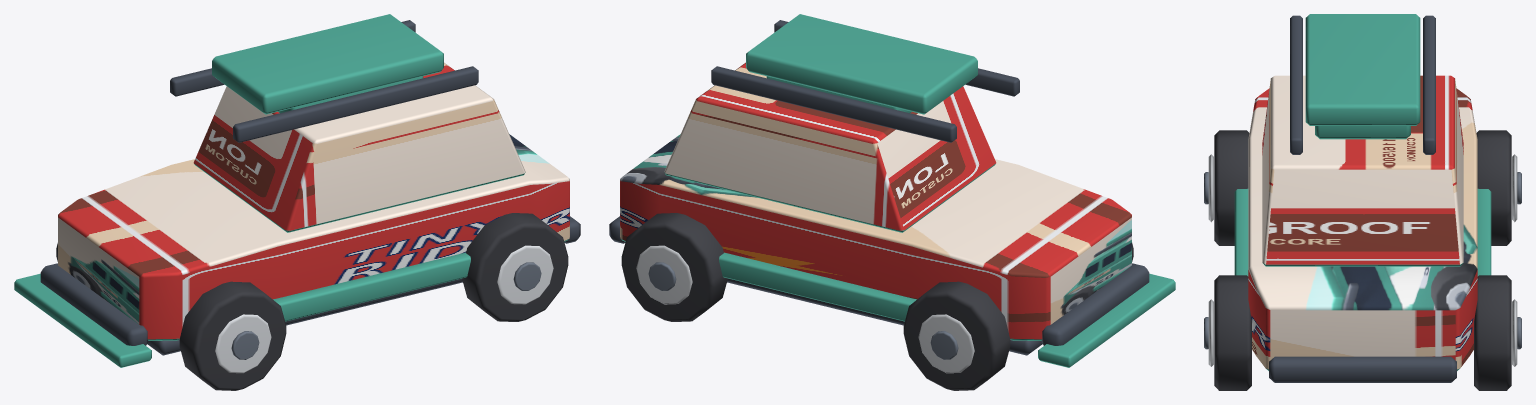
3 views of the same model, side by side, from view 1: azimuth 30°, elevation 25°; view 2: azimuth 150°, elevation 25°; view 3: azimuth 270°, elevation 25° (orthographic). The views are drawn at different scales.
Parts seen in each view (by area): view 1: RR-02_connected_shell, RR-02_cabin, utility load, Tire, Tire.002, utility rail, custom side guard, custom chin, front bumper, Rim, Rim.002, underbody (+3 smaller); view 2: RR-02_connected_shell, RR-02_cabin, utility load, Tire.001, Tire.003, utility rail.001, custom side guard.001, custom chin, front bumper, Rim.001, Rim.003, underbody (+3 smaller); view 3: RR-02_cabin, RR-02_connected_shell, utility load, rear bumper, Tire.002, Tire.003, Tire, Tire.001, utility rail, utility rail.001, custom equipment, custom side guard (+5 smaller).
Part boxes in pixels (x1,y1,x2,y2): RR-02_connected_shell: [58, 134, 569, 340]; RR-02_cabin: [193, 62, 525, 232]; utility load: [212, 14, 443, 114]; Tire: [179, 281, 286, 390]; Tire.002: [462, 213, 568, 321]; utility rail: [233, 66, 478, 142]; custom side guard: [273, 252, 470, 321]; custom chin: [14, 273, 151, 367]; front bumper: [40, 263, 148, 345]; Rim: [215, 314, 271, 373]; Rim.002: [497, 245, 553, 304]; underbody: [147, 278, 462, 355]; RR-02_connected_shell: [620, 134, 1131, 340]; RR-02_cabin: [664, 62, 996, 232]; utility load: [746, 14, 977, 114]; Tire.001: [903, 281, 1010, 390]; Tire.003: [621, 213, 727, 321]; utility rail.001: [711, 66, 956, 142]; custom side guard.001: [719, 252, 916, 321]; custom chin: [1038, 273, 1175, 367]; front bumper: [1041, 263, 1149, 345]; Rim.001: [918, 314, 974, 373]; Rim.003: [636, 245, 692, 304]; underbody: [727, 278, 1042, 355]; RR-02_cabin: [1262, 75, 1463, 266]; RR-02_connected_shell: [1248, 88, 1477, 370]; utility load: [1305, 14, 1420, 125]; rear bumper: [1269, 356, 1456, 382]; Tire.002: [1214, 275, 1251, 390]; Tire.003: [1474, 275, 1511, 390]; Tire: [1214, 130, 1249, 245]; Tire.001: [1476, 130, 1511, 245]; utility rail: [1290, 15, 1302, 154]; utility rail.001: [1423, 15, 1435, 154]; custom equipment: [1315, 126, 1410, 139]; custom side guard: [1234, 188, 1248, 276].
Size of the model in its own units: 395 by 199 by 219.
